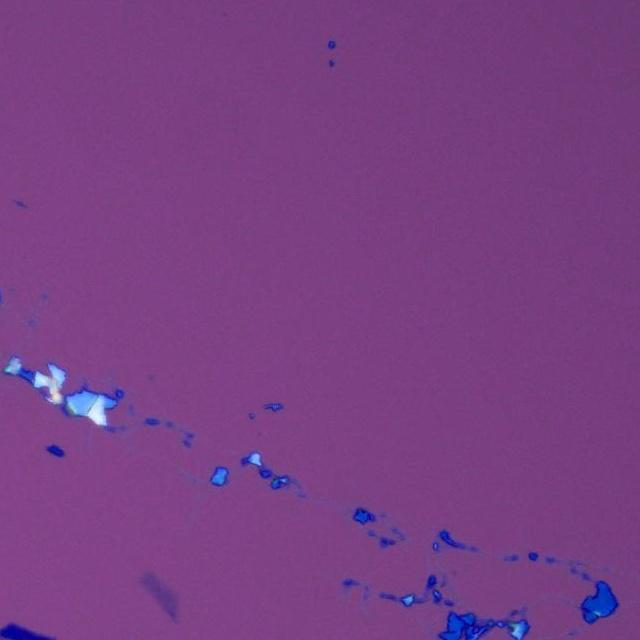monolayer-eWW4: (139, 571, 181, 612)
